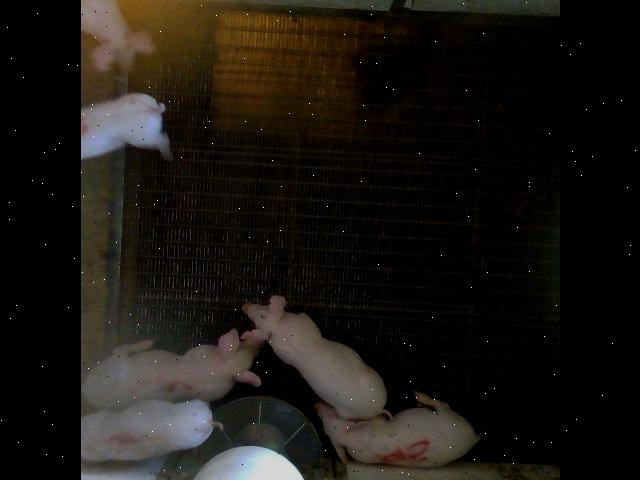pig-1: (81, 399, 225, 460)
pig-3: (82, 330, 260, 409)
pig-4: (82, 94, 171, 160)
pig-5: (314, 391, 480, 466)
